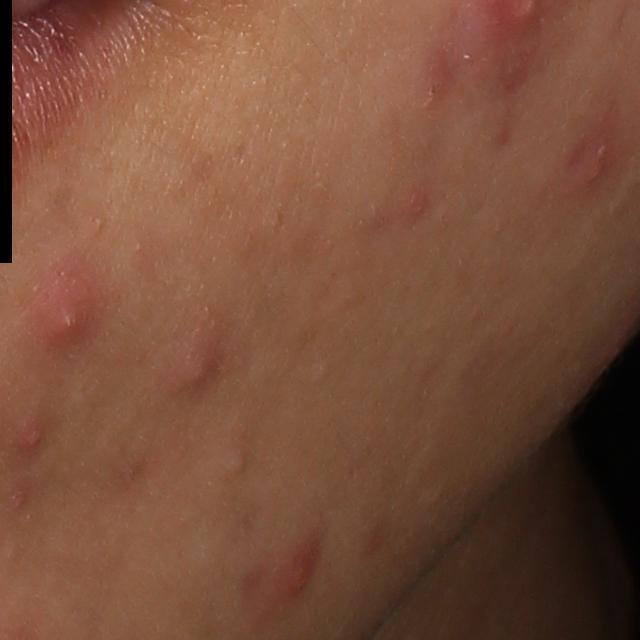comedo: (219, 449, 248, 476)
papule: (15, 254, 100, 363), (159, 335, 235, 403), (262, 540, 325, 614), (572, 149, 609, 194), (19, 407, 51, 455), (403, 193, 433, 222)
